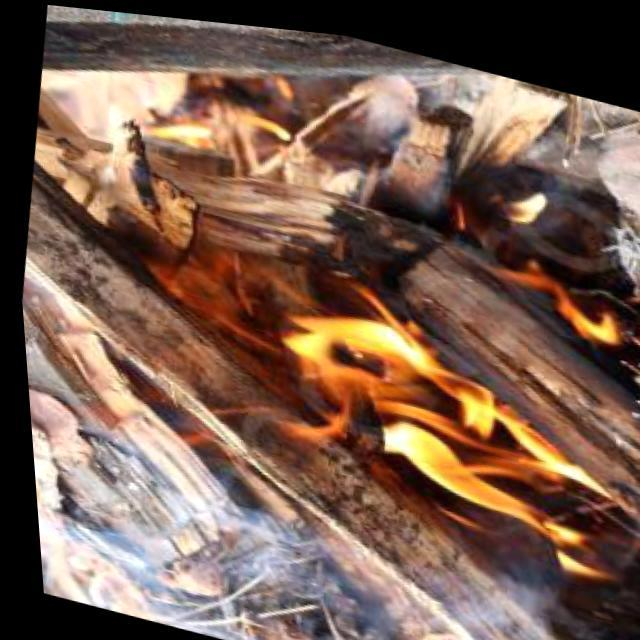fire: (180, 127, 640, 589)
